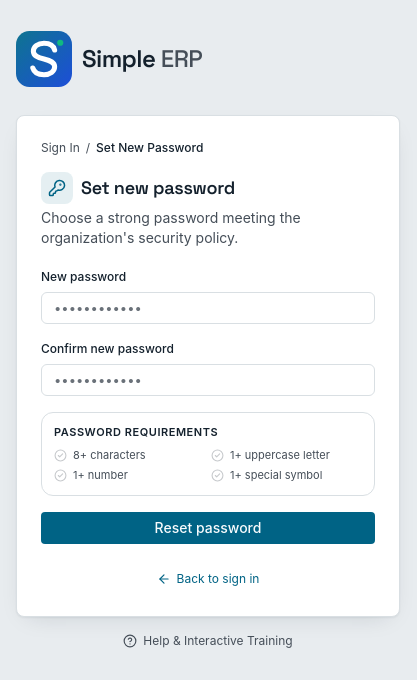
Test: Credentials & User Lifecycle Pages › ResetPasswordPage › submits password reset successfully with URL token
This screenshot has width=417, height=680.
Type "NewSecure#Pass123" into the password field with placeholder "••••••••••••" at point(208, 308), box x1=41 y1=292 x2=375 y2=324
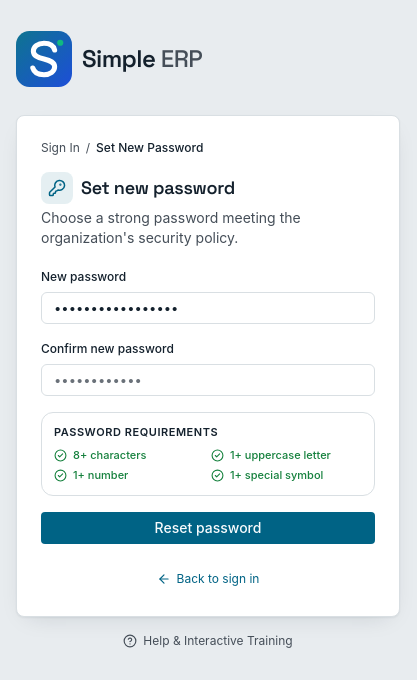
Type "NewSecure#Pass123" into the password field with placeholder "••••••••••••" at point(208, 380), box x1=41 y1=364 x2=375 y2=396
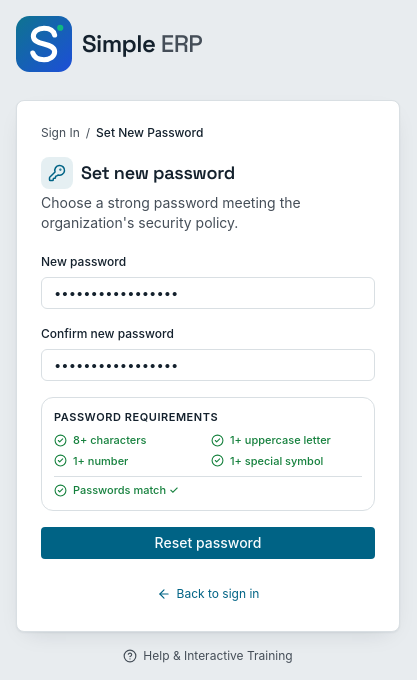
Click the button "Reset password" at point(208, 543), box x1=41 y1=527 x2=375 y2=559
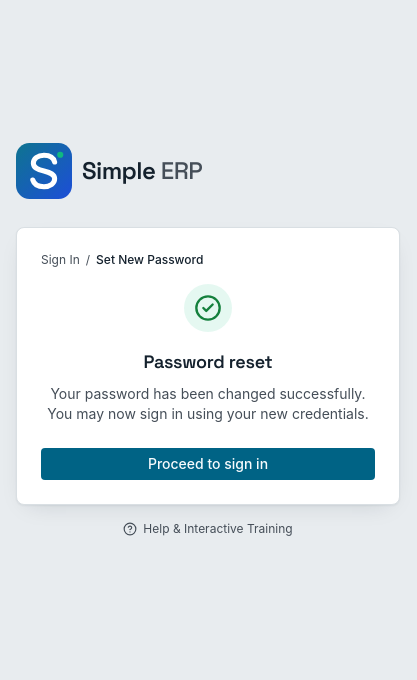
Result: the heading "Password reset" is shown at x1=144 y1=348 x2=272 y2=376
Result: the button "Proceed to sign in" is shown at x1=41 y1=448 x2=375 y2=480
